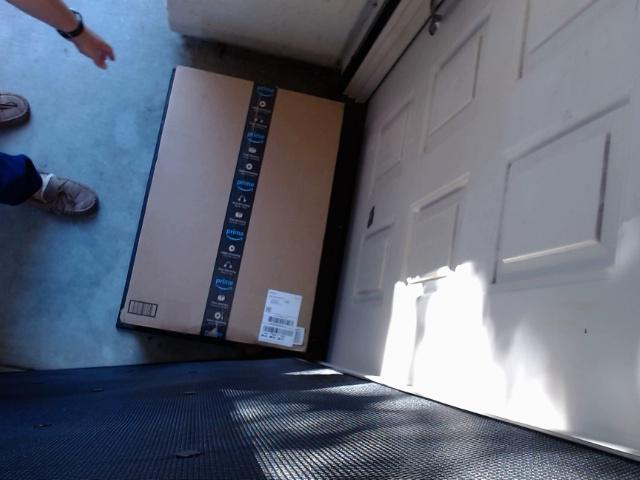box: (130, 68, 354, 347)
